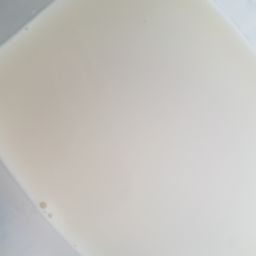Regular milk: (18, 7, 256, 256), (41, 28, 241, 206)
